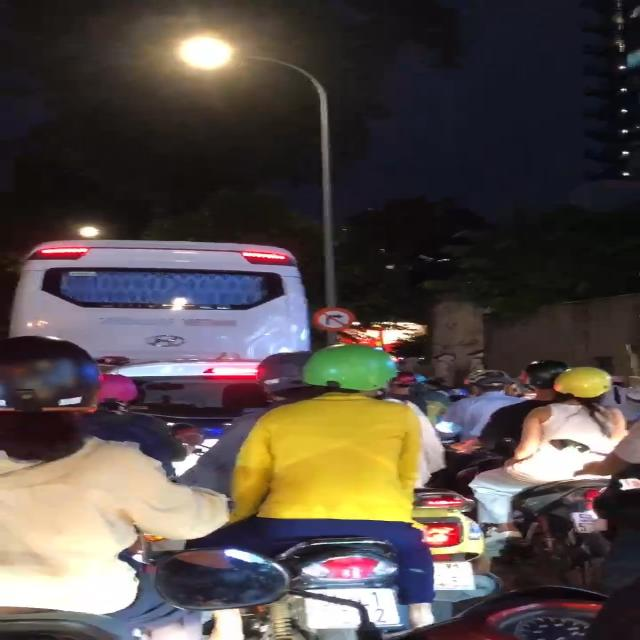Bien bao cam re phai: (311, 306, 361, 335)
